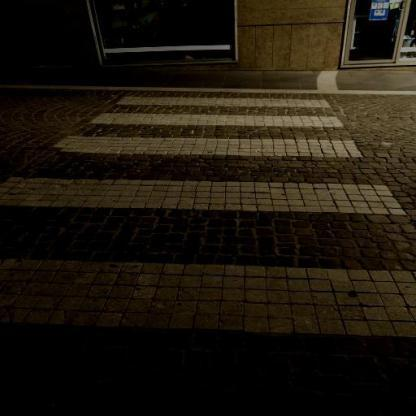crosswalk: (0, 173, 416, 366), (46, 112, 368, 164)
